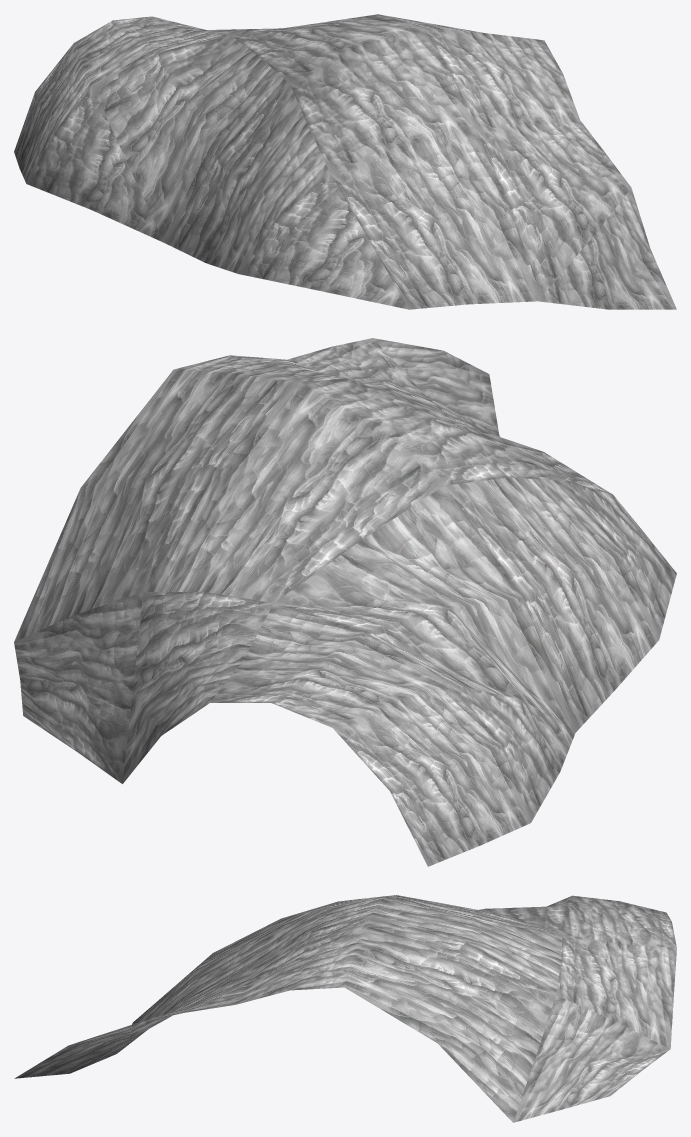
The model's file is SWORDLIGHT20_PS-AREA03_47.fbx.
3 renders of one model, top to bottom at view 1: azimuth 30°, elevation 25°; view 2: azimuth 150°, elevation 25°; view 3: azimuth 270°, elevation 25°, orthographic. The views are drawn at different scales.
Visible parts, largest first — view 1: SWORDLIGHT20_PS-AREA03_47; view 2: SWORDLIGHT20_PS-AREA03_47; view 3: SWORDLIGHT20_PS-AREA03_47.
Boxes of the visible parts, box(x1,y1,x2,y2) form: SWORDLIGHT20_PS-AREA03_47: box(14, 14, 676, 309); SWORDLIGHT20_PS-AREA03_47: box(14, 338, 676, 866); SWORDLIGHT20_PS-AREA03_47: box(14, 895, 676, 1122).
Bounding box in the file's own units: 218395 × 90219 × 333484.
Materials: 1 (1 with a texture image).
